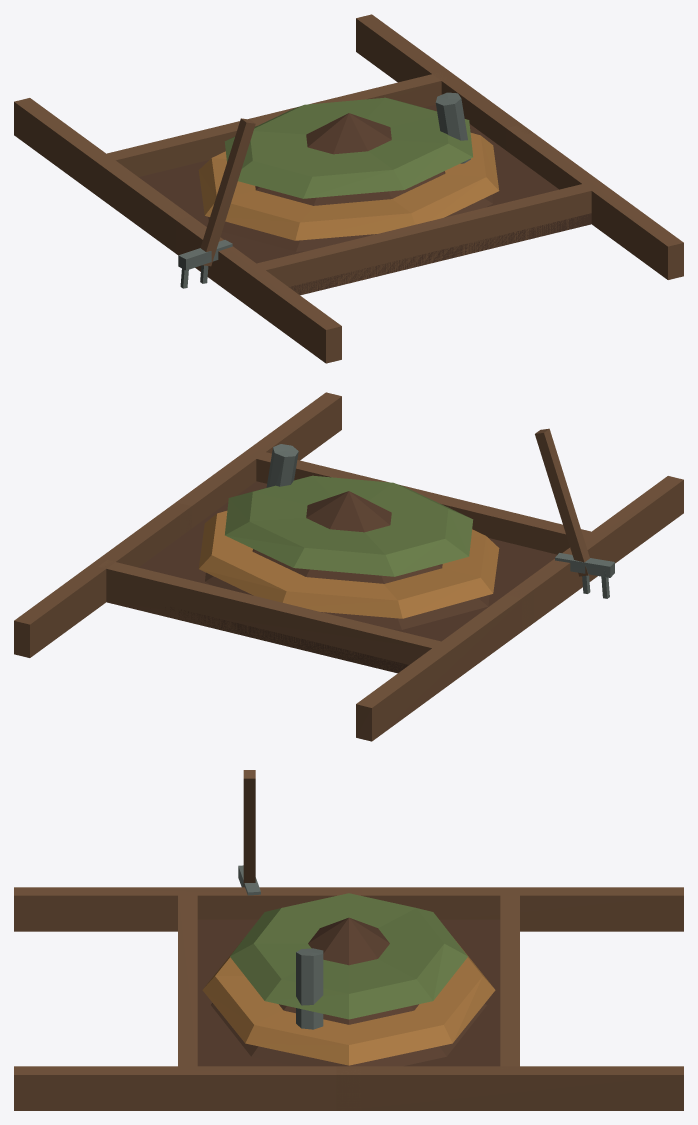
Rendered from Compost-Pile.glb.
The picture shows the model from 3 angles, top to bottom: view 1: azimuth 30°, elevation 25°; view 2: azimuth 150°, elevation 25°; view 3: azimuth 270°, elevation 25°; orthographic projection. The views are drawn at different scales.
Parts seen in each view (by area): view 1: compost-pile-static-compost-weathered-timber, compost-pile-static-compost-organic-green, compost-pile-static-compost-dark-soil, compost-pile-static-compost-dry-leaf-ochre, compost-pile-static-compost-aeration-pipe; view 2: compost-pile-static-compost-weathered-timber, compost-pile-static-compost-organic-green, compost-pile-static-compost-dark-soil, compost-pile-static-compost-dry-leaf-ochre, compost-pile-static-compost-aeration-pipe; view 3: compost-pile-static-compost-weathered-timber, compost-pile-static-compost-organic-green, compost-pile-static-compost-dark-soil, compost-pile-static-compost-dry-leaf-ochre, compost-pile-static-compost-aeration-pipe.
Boxes of the visible parts, left/top/right/bottom form: compost-pile-static-compost-weathered-timber: left=14, top=14, right=683, bottom=363; compost-pile-static-compost-organic-green: left=224, top=97, right=472, bottom=198; compost-pile-static-compost-dark-soil: left=139, top=104, right=591, bottom=295; compost-pile-static-compost-dry-leaf-ochre: left=198, top=133, right=499, bottom=240; compost-pile-static-compost-aeration-pipe: left=178, top=92, right=470, bottom=288; compost-pile-static-compost-weathered-timber: left=14, top=392, right=683, bottom=741; compost-pile-static-compost-organic-green: left=225, top=475, right=473, bottom=576; compost-pile-static-compost-dark-soil: left=139, top=481, right=557, bottom=673; compost-pile-static-compost-dry-leaf-ochre: left=198, top=511, right=499, bottom=618; compost-pile-static-compost-aeration-pipe: left=266, top=444, right=614, bottom=598; compost-pile-static-compost-weathered-timber: left=14, top=770, right=683, bottom=1110; compost-pile-static-compost-organic-green: left=230, top=893, right=467, bottom=1019; compost-pile-static-compost-dark-soil: left=197, top=917, right=500, bottom=1066; compost-pile-static-compost-dry-leaf-ochre: left=202, top=941, right=495, bottom=1065; compost-pile-static-compost-aeration-pipe: left=238, top=865, right=323, bottom=1029.
Size of the model in its own units: 4.44 by 1.68 by 6.07.
